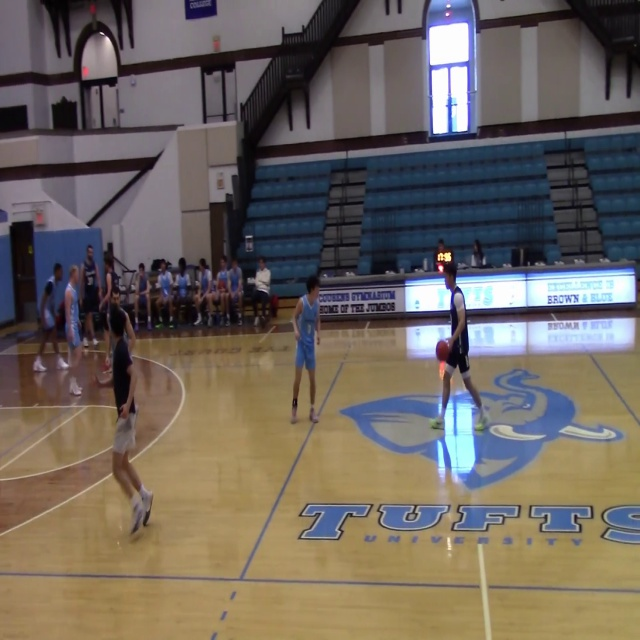Basketball: (435, 339, 451, 361)
